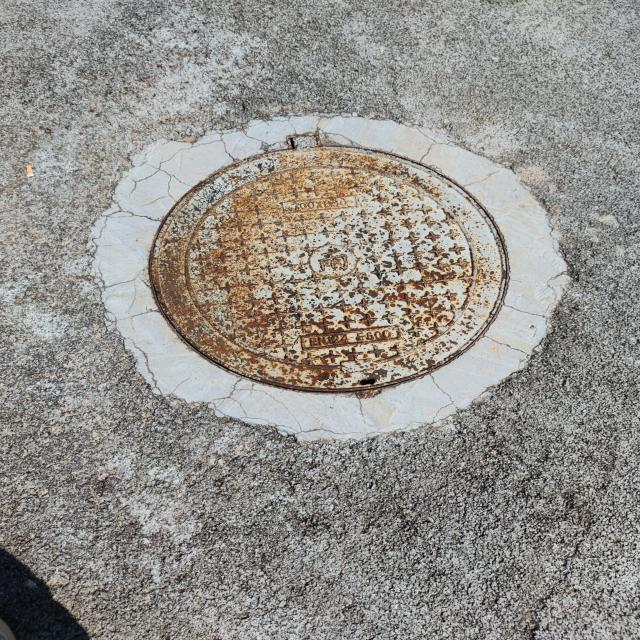Good: (139, 130, 522, 405)
